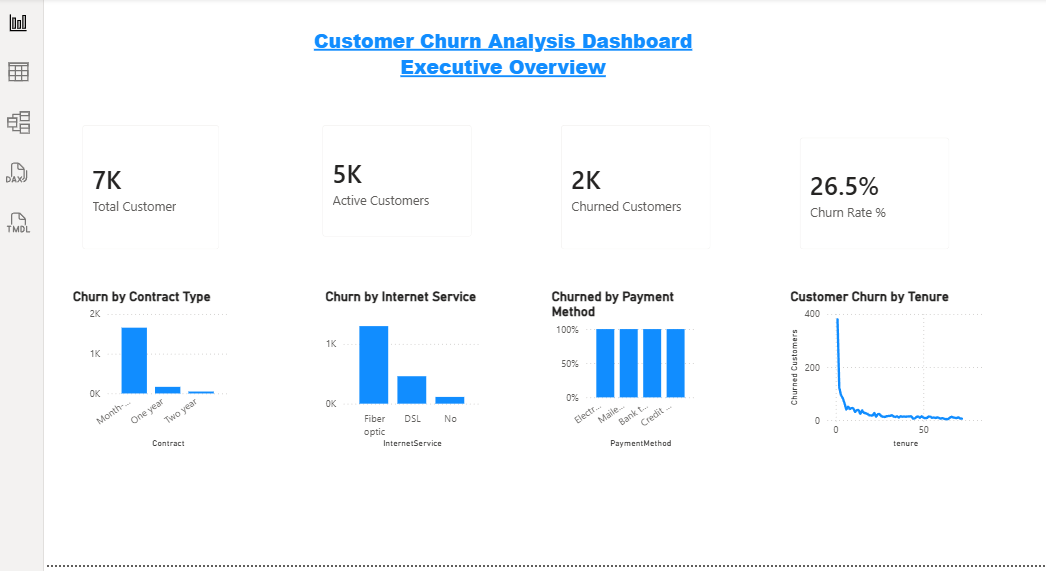

The dashboard page shown, as its layout file describes it:
{"tool":"powerbi","page":{"name":"Executive Overview","canvas":[1280,720],"ordinal":0},"visuals":[{"type":"cardVisual","fields":{"Data":["Churn_Data.Total Customer"]},"box":[32,144,208,192],"z":0},{"type":"cardVisual","fields":{"Data":["Churn_Data.Churned Customers"]},"box":[640,144,224,192],"z":1000},{"type":"cardVisual","fields":{"Data":["Churn_Data.Active Customers"]},"box":[336,144,224,176],"z":2000},{"type":"cardVisual","fields":{"Data":["Churn_Data.Churn Rate %"]},"box":[944,160,224,176],"z":3000},{"type":"clusteredColumnChart","title":"Churn by Contract Type","fields":{"Category":["Churn_Data.Contract"],"Y":["Churn_Data.Churned Customers"]},"box":[32,368,208,208],"z":4000},{"type":"clusteredColumnChart","title":"Churn by Internet Service","fields":{"Category":["Churn_Data.InternetService"],"Y":["Churn_Data.Churned Customers"]},"box":[352,368,208,208],"z":5000},{"type":"hundredPercentStackedColumnChart","title":"Churned by Payment Method","fields":{"Category":["Churn_Data.PaymentMethod"],"Y":["Churn_Data.Churned Customers"]},"box":[640,368,192,208],"z":6000},{"type":"lineChart","title":"Customer Churn by Tenure","fields":{"Category":["Churn_Data.tenure"],"Y":["Churn_Data.Churned Customers"]},"box":[944,368,256,208],"z":7000},{"type":"textbox","box":[304,32,560,112],"z":8000}]}

Visuals, with their boxes on the page's 1280x720 design canvas (x1, y1, x2, y2). These are canvas units, not pixel positions in the 1046x571 screenshot, which may show the page scaled, cropped or inside an application window:
cardVisual - Churn_Data.Total Customer: <box>32,144,240,336</box>
cardVisual - Churn_Data.Churned Customers: <box>640,144,864,336</box>
cardVisual - Churn_Data.Active Customers: <box>336,144,560,320</box>
cardVisual - Churn_Data.Churn Rate %: <box>944,160,1168,336</box>
"Churn by Contract Type" clusteredColumnChart: <box>32,368,240,576</box>
"Churn by Internet Service" clusteredColumnChart: <box>352,368,560,576</box>
"Churned by Payment Method" hundredPercentStackedColumnChart: <box>640,368,832,576</box>
"Customer Churn by Tenure" lineChart: <box>944,368,1200,576</box>
textbox: <box>304,32,864,144</box>
